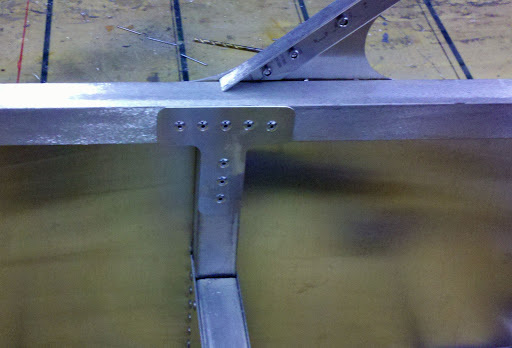bolt: (336, 13, 351, 32), (288, 49, 301, 63), (261, 66, 275, 79)
rivet: (264, 120, 279, 134), (196, 119, 210, 133), (219, 120, 232, 134), (241, 119, 254, 132), (173, 120, 186, 133), (217, 158, 232, 169), (214, 193, 226, 206), (216, 176, 228, 188), (188, 285, 195, 298), (191, 300, 198, 313), (185, 313, 194, 323), (186, 326, 193, 337), (189, 272, 196, 282), (186, 339, 192, 347)
